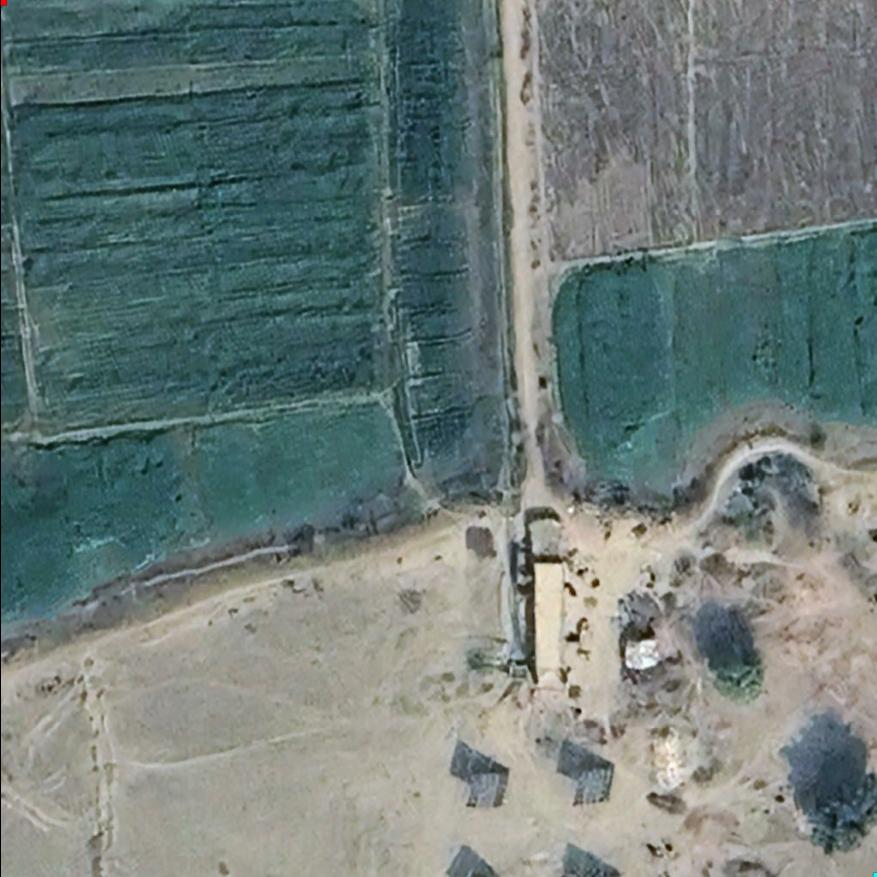Solarpanel: (466, 769, 512, 813), (568, 763, 613, 807)
